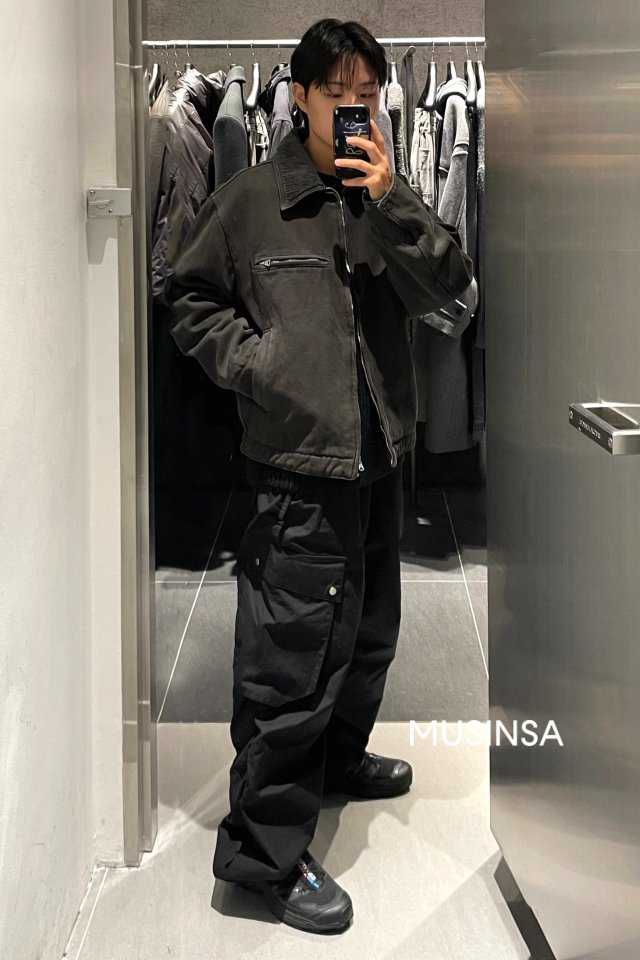Jacket: (167, 120, 483, 473)
Pants: (215, 412, 411, 884)
Shoes: (227, 743, 414, 935)
